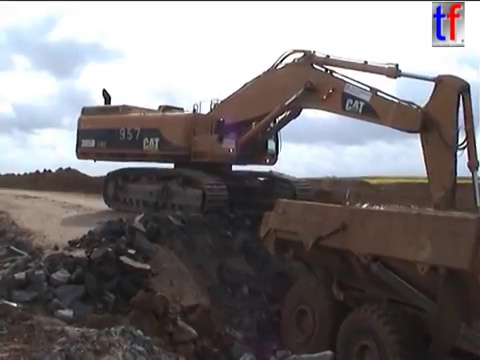excavator: (72, 46, 480, 275)
truck: (255, 193, 480, 360)
